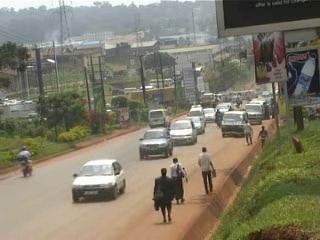Car: (69, 155, 127, 203), (136, 127, 175, 161), (166, 118, 197, 146), (185, 117, 204, 134), (201, 106, 215, 124), (210, 103, 234, 113)
Motorcycle: (16, 144, 37, 177), (213, 108, 223, 131)
